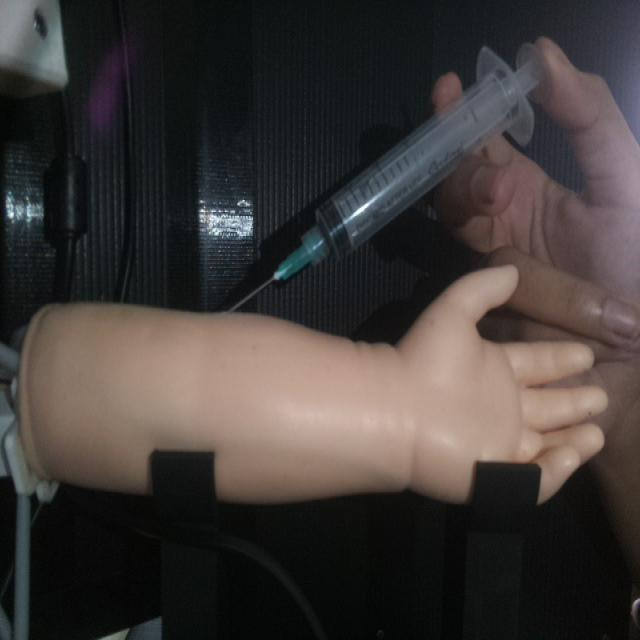Outside: (226, 37, 554, 316)
